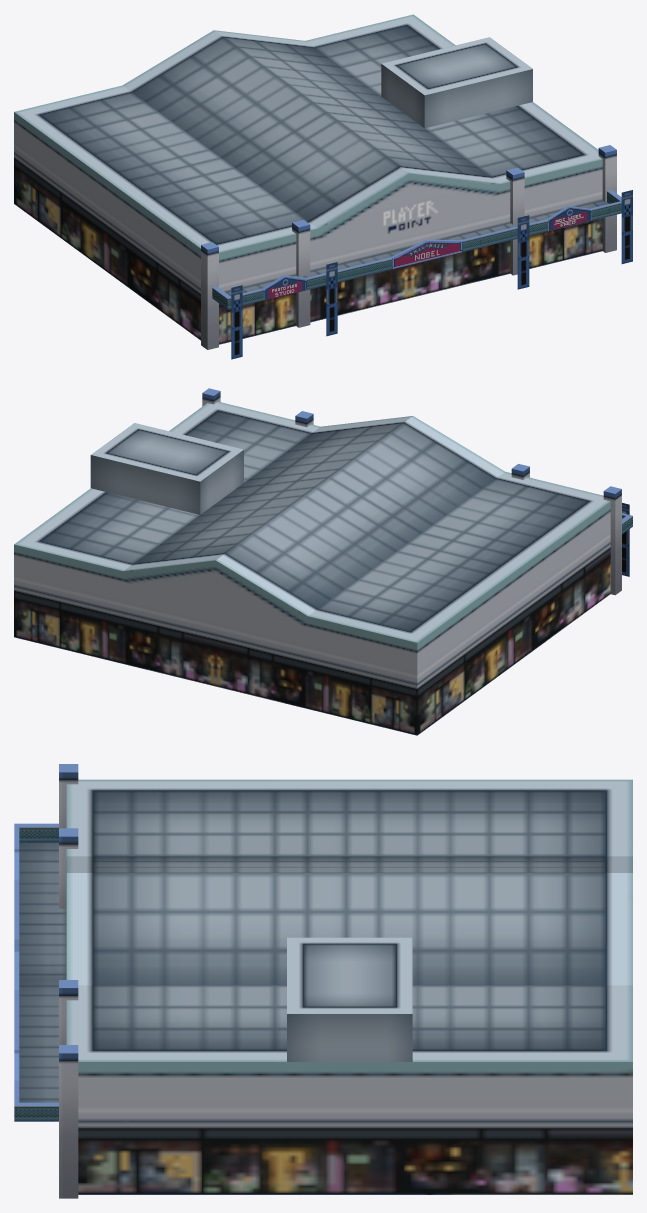
File: Arcade.fbx
3 views of the same model, one above another, from view 1: azimuth 30°, elevation 25°; view 2: azimuth 150°, elevation 25°; view 3: azimuth 270°, elevation 25° (orthographic). The views are drawn at different scales.
Visible parts, largest first — view 1: Arcade1; view 2: Arcade1; view 3: Arcade1.
Part boxes in pixels (x1,y1,x2,y2): Arcade1: (14, 14, 632, 359); Arcade1: (14, 388, 632, 735); Arcade1: (14, 764, 632, 1198).
Bounding box in the file's own units: 8.19 × 2.38 × 7.4.
